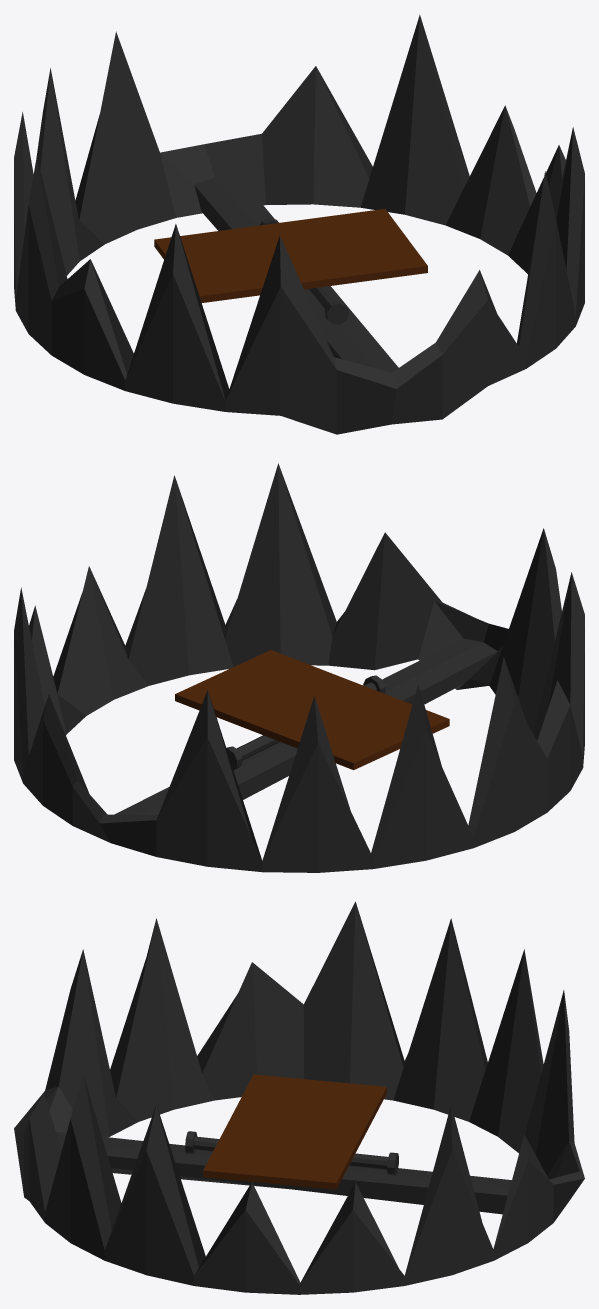
The model's file is Trap1Mesh.fbx.
3 views of the same model, one above another, from view 1: azimuth 30°, elevation 25°; view 2: azimuth 150°, elevation 25°; view 3: azimuth 270°, elevation 25° (orthographic). The views are drawn at different scales.
Parts seen in each view (by area): view 1: BearTrap_Open; view 2: BearTrap_Open; view 3: BearTrap_Open.
Part boxes in pixels (left/top/right/bottom): BearTrap_Open: left=14, top=14, right=584, bottom=434; BearTrap_Open: left=14, top=463, right=584, bottom=872; BearTrap_Open: left=14, top=901, right=584, bottom=1294.
Bounding box in the file's own units: 82.88 × 31.02 × 85.97.
